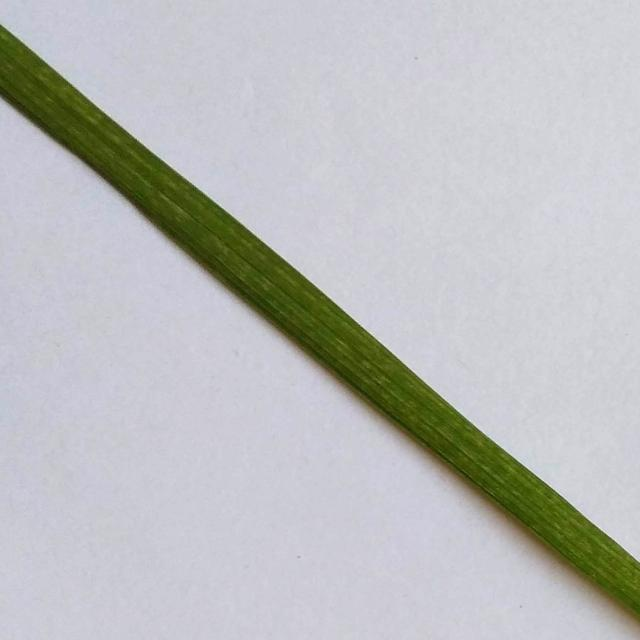Rice_Healthy: (0, 26, 640, 615)
